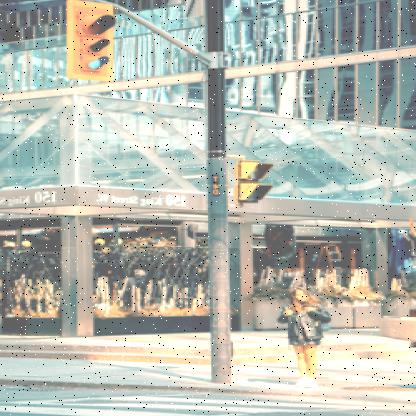trafficlight: (64, 0, 120, 83), (236, 155, 276, 201)
